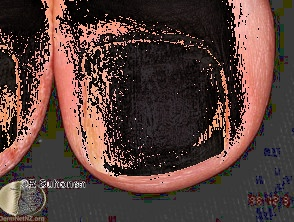Nail_psoriasis: (69, 22, 237, 187), (1, 41, 28, 160)
